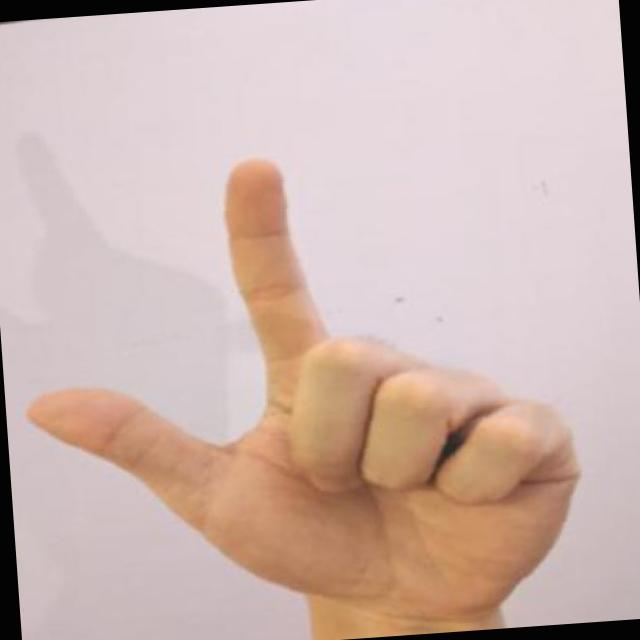L: (0, 82, 630, 640)
